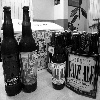beer: (18, 6, 45, 95)
